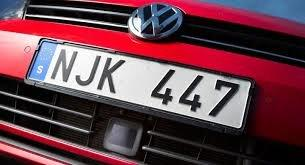license-plates: (26, 40, 253, 132)
